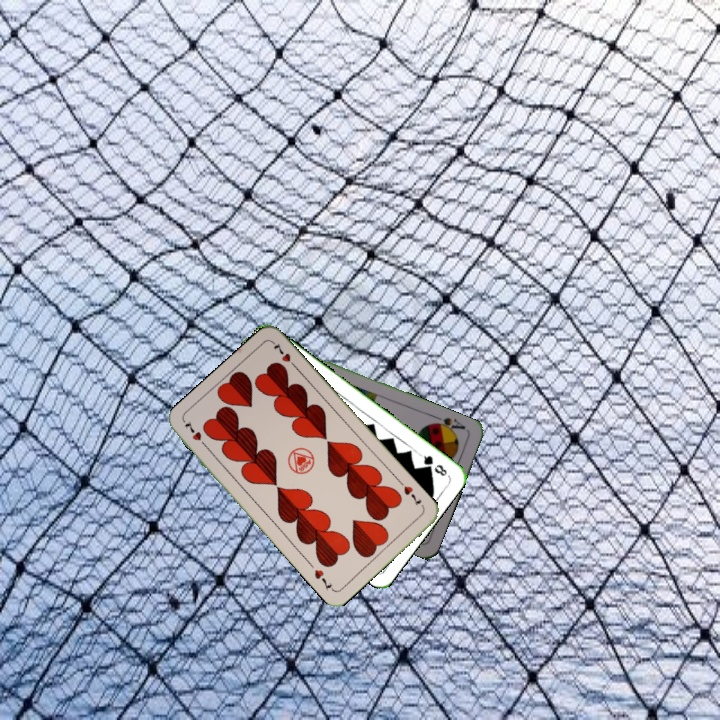G8: (416, 450, 450, 479)
H7: (180, 417, 211, 451), (400, 482, 424, 509)
SA: (429, 412, 468, 436)
